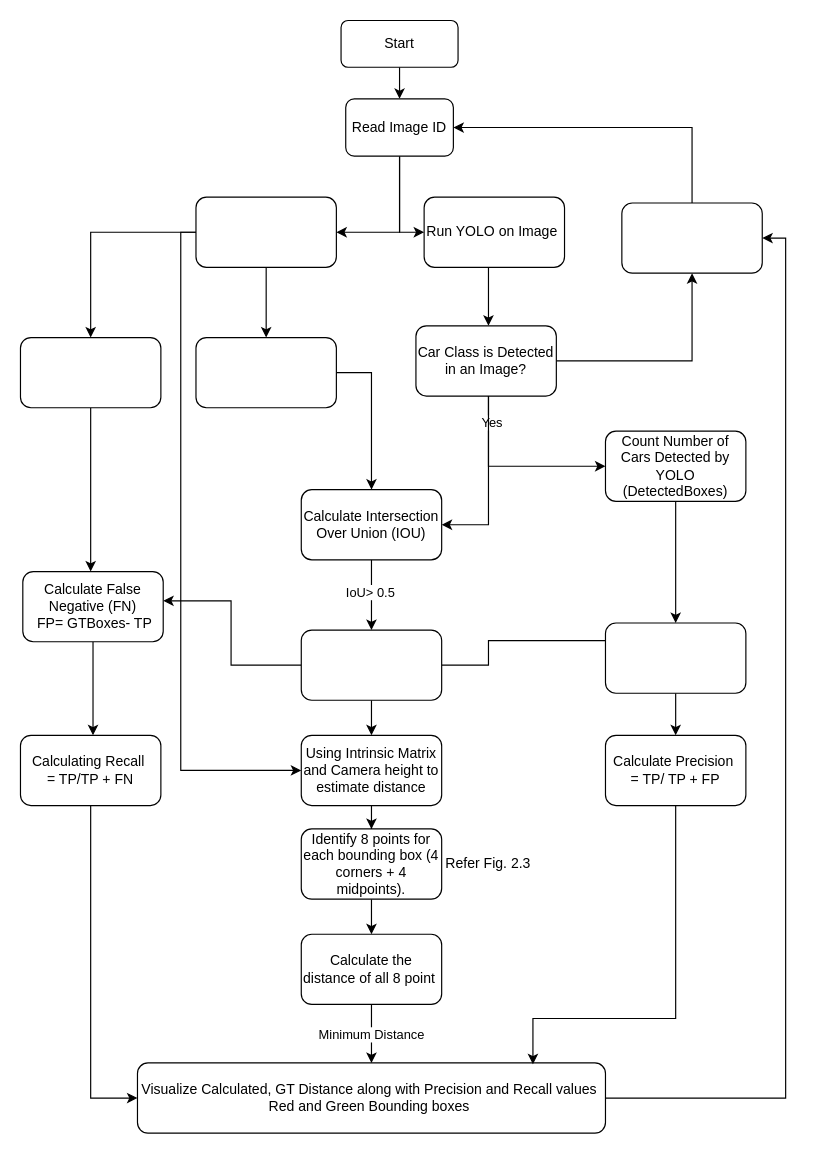
Image size: 815x1154. Some labels were removed from this diagram. The shapes that lost their labels are listed below. From the top down, each one's box as (x1, y1, x2, y2) in pixels, then its label:
(195, 196, 336, 267): Process Labeled Datasets
(621, 202, 762, 273): Next Image
(19, 336, 161, 408): Count number of cars in GT Data (GTBoxes)
(195, 336, 336, 408): Extract and Visualize GT Coordinates. (Green BBoxes)
(300, 629, 442, 700): Evaluate IoU and Count True Positives (TP) (Red BBoxes)
(604, 622, 746, 693): Calculate False Positive(FP) FP= DetectedBoxes-TP
